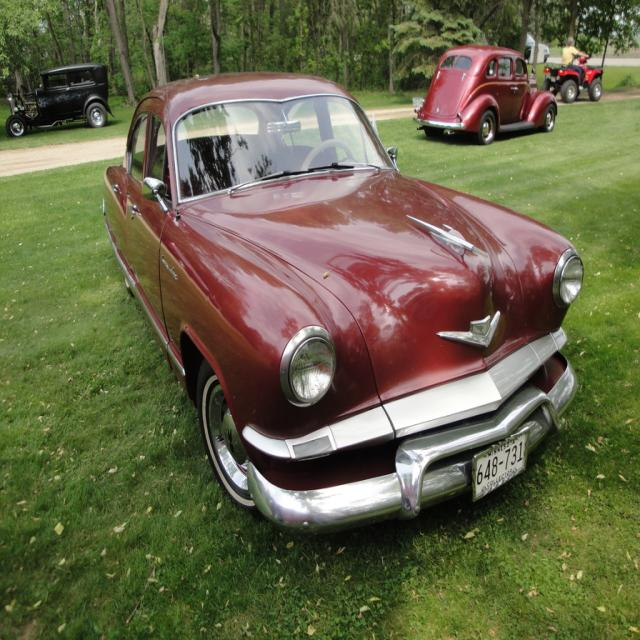car: (98, 79, 577, 534), (414, 41, 560, 140), (8, 61, 107, 136), (540, 52, 604, 102)
